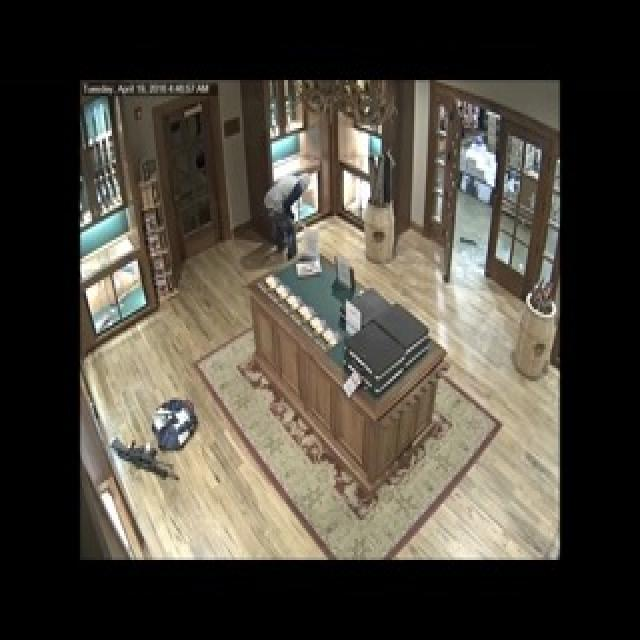thief: (264, 169, 317, 259)
